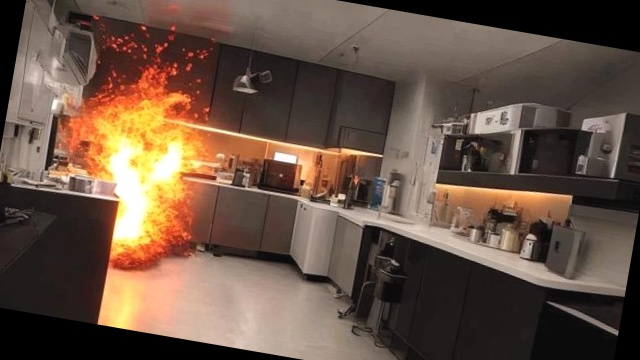fire: (36, 28, 228, 273)
